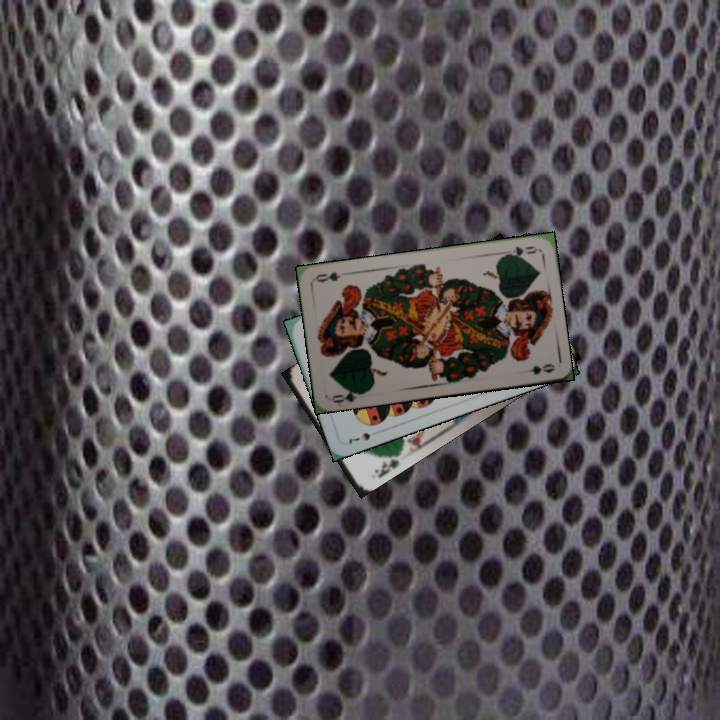GK: (370, 451, 402, 480)
GO: (328, 385, 369, 405), (500, 242, 540, 260)
S7: (345, 428, 373, 447)
